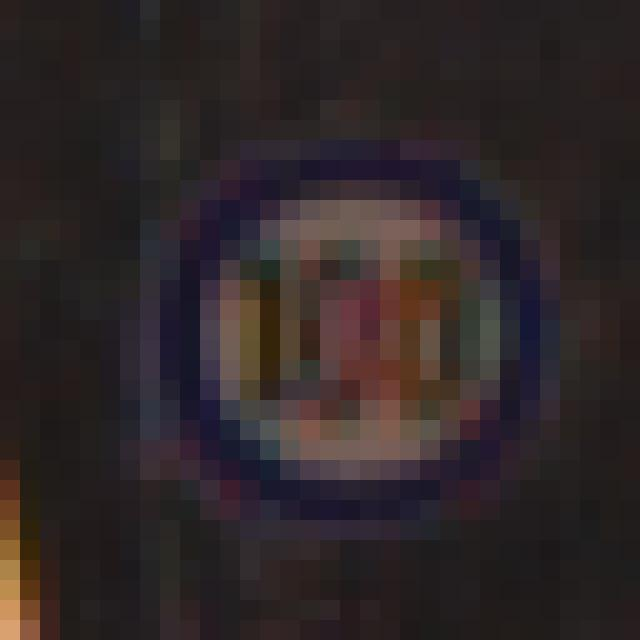SPEED LIMIT 100: (146, 159, 574, 519)
